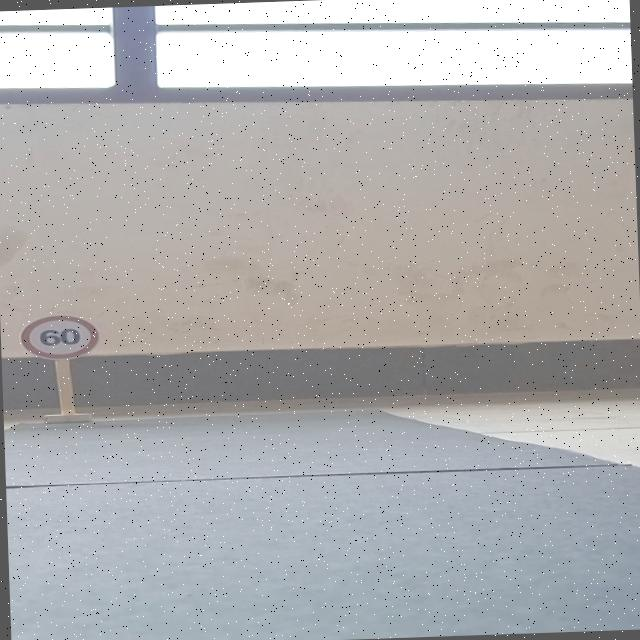Speed60: (15, 312, 104, 361)
